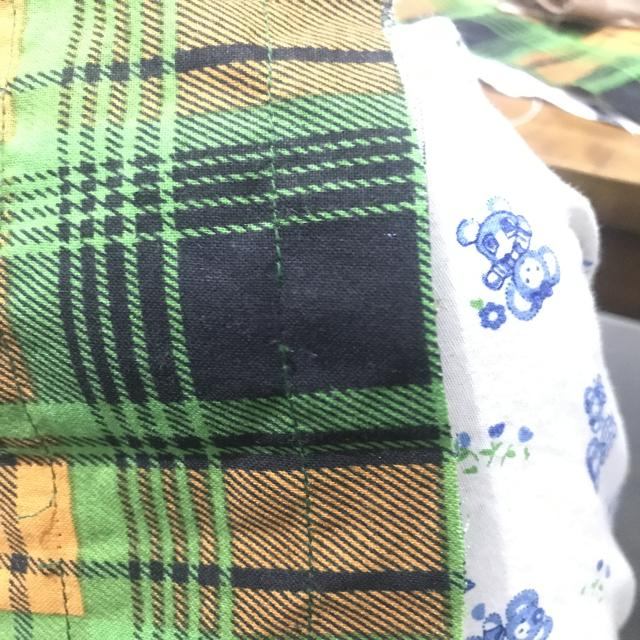broken: (262, 253, 316, 375)
